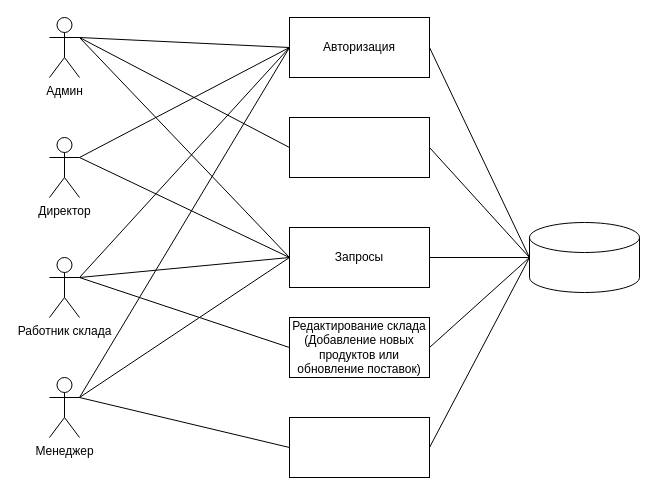
The diagram is 657 pixels wide and 495 high, and some of its shapes have lost their labels. Here are the shapes that lost their labels. From the top down, the centre of each, then its label:
the point at 359,147: Редактирование (Добавление новых покупателей)
the point at 584,257: Информационная система
the point at 359,447: Корзина(Добавление нового заказа)
